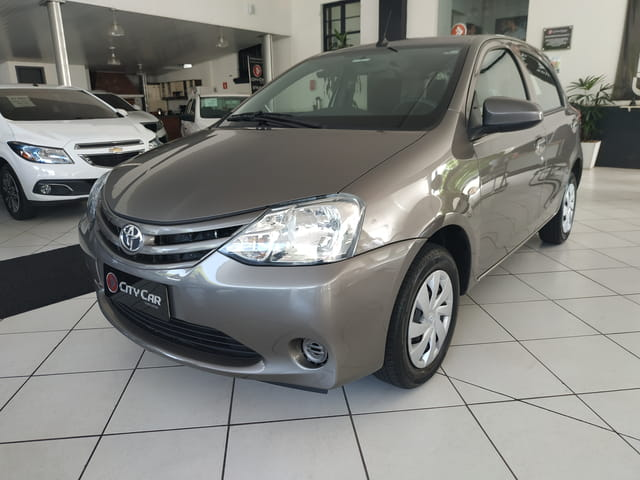Carro: (74, 31, 589, 397), (1, 76, 157, 227), (87, 85, 172, 153)
